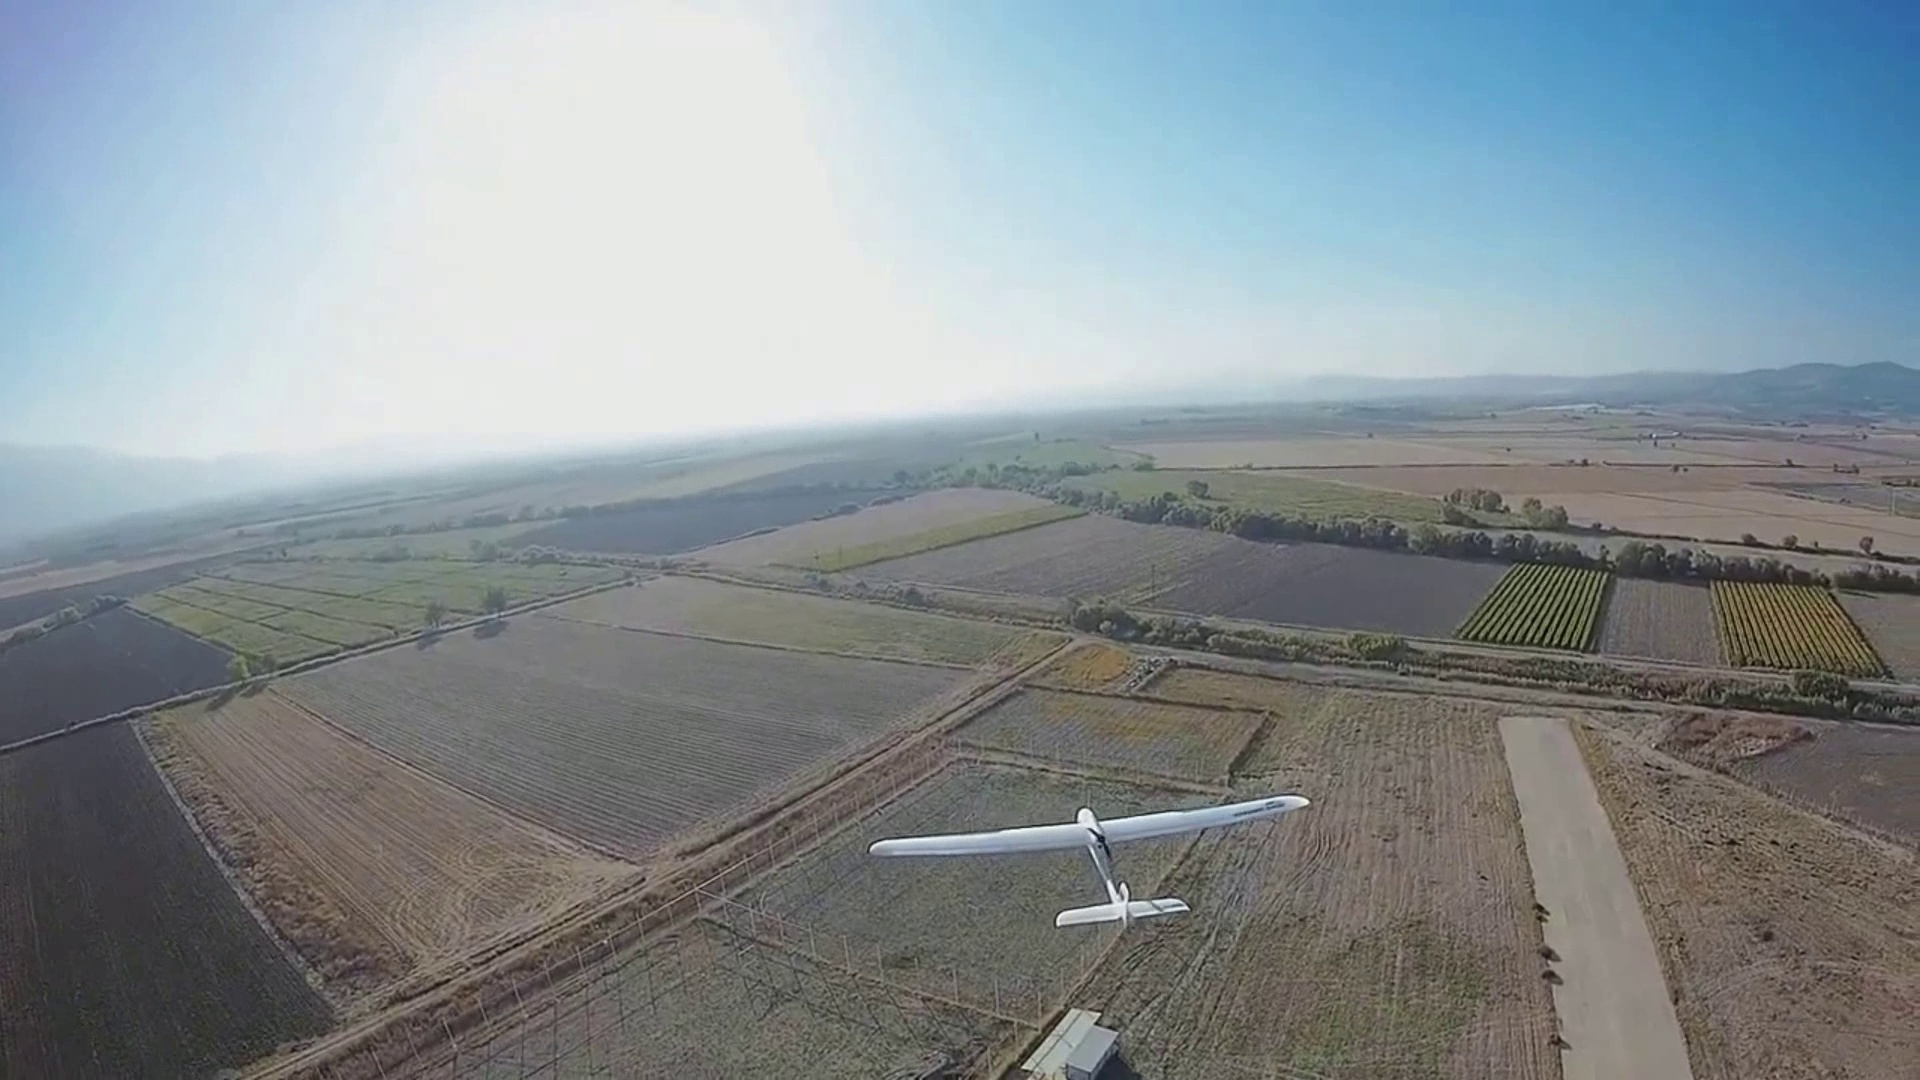airplane: (869, 793, 1308, 928)
